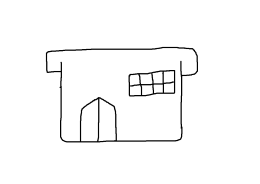closed_window: (124, 66, 179, 101)
door: (76, 93, 123, 145)
single_line_roof: (36, 39, 204, 79)
wall: (55, 68, 187, 147)
